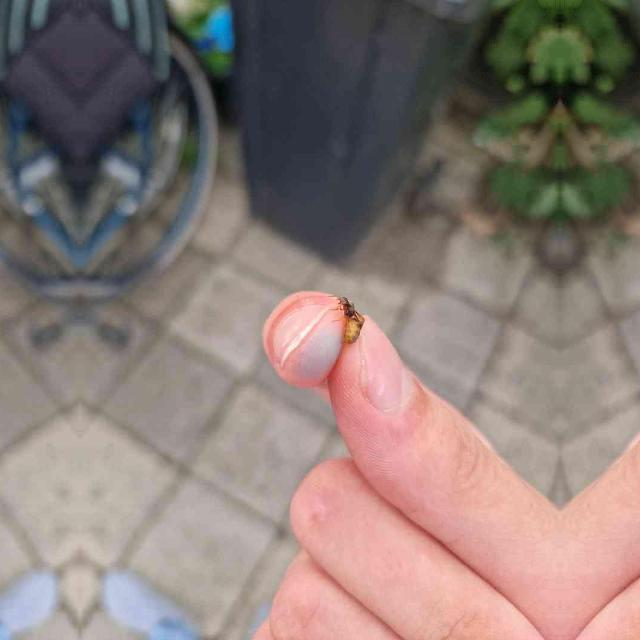Lasius: (332, 292, 370, 344)
